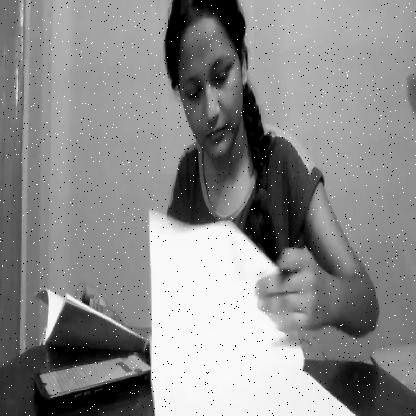Distracted: (161, 0, 254, 174)
